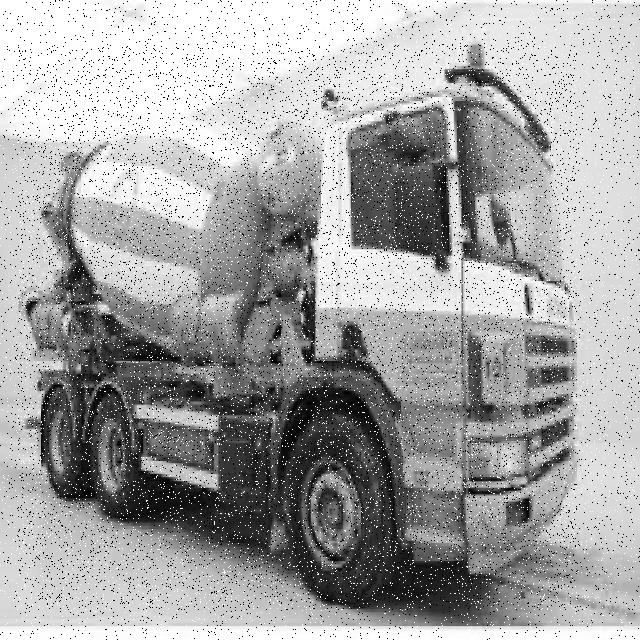Concrete Mixer: (18, 44, 577, 610)
